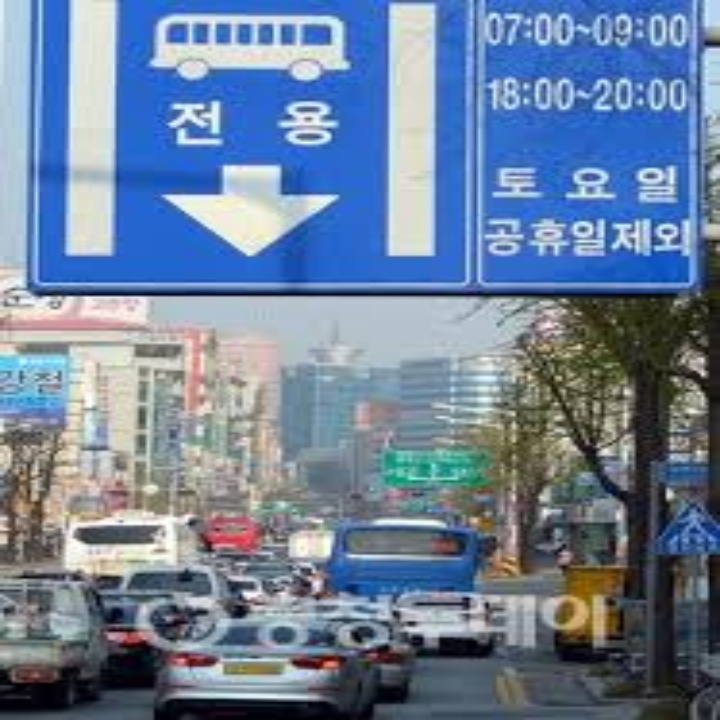bus: (140, 5, 370, 86)
